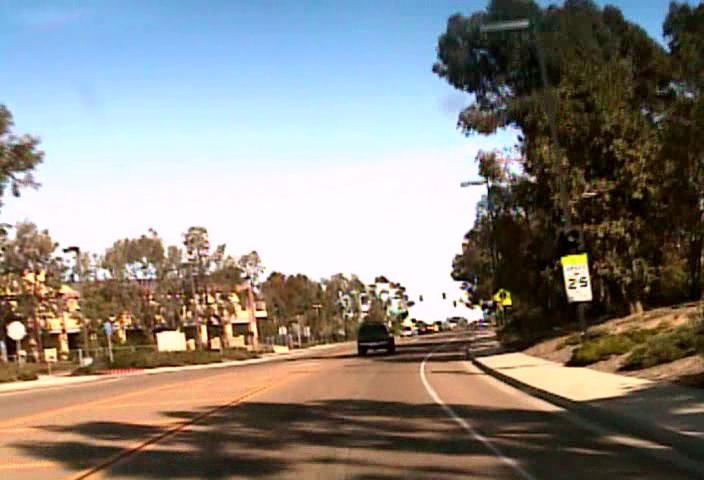schoolSpeedLimit25: (561, 253, 592, 302)
